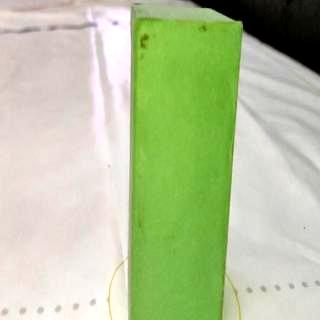greenbox: (128, 3, 242, 320)
